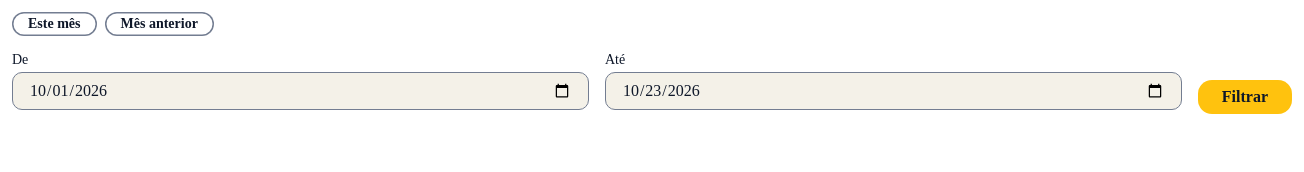
FiltroPeriodo › períodos prontos › escolher um atalho aplica na hora e preenche as datas
What coordinates should you click on to do the following:
click the button "Mês anterior"
I would click on:
 (159, 24)
Its box is [104,12,214,36].
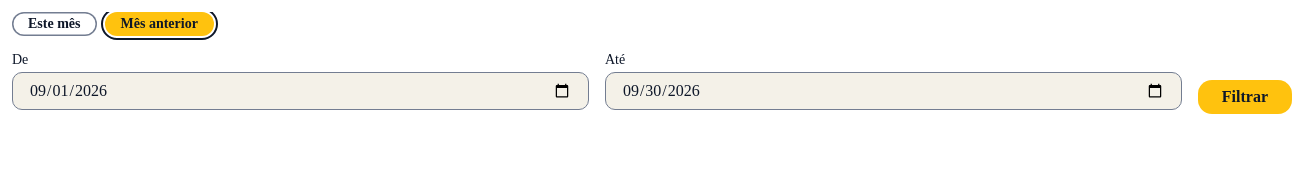
Expected: the date field labelled "De" holds "2026-09-01", [12,72,589,110]
Expected: the date field labelled "Até" holds "2026-09-30", [605,72,1182,110]
